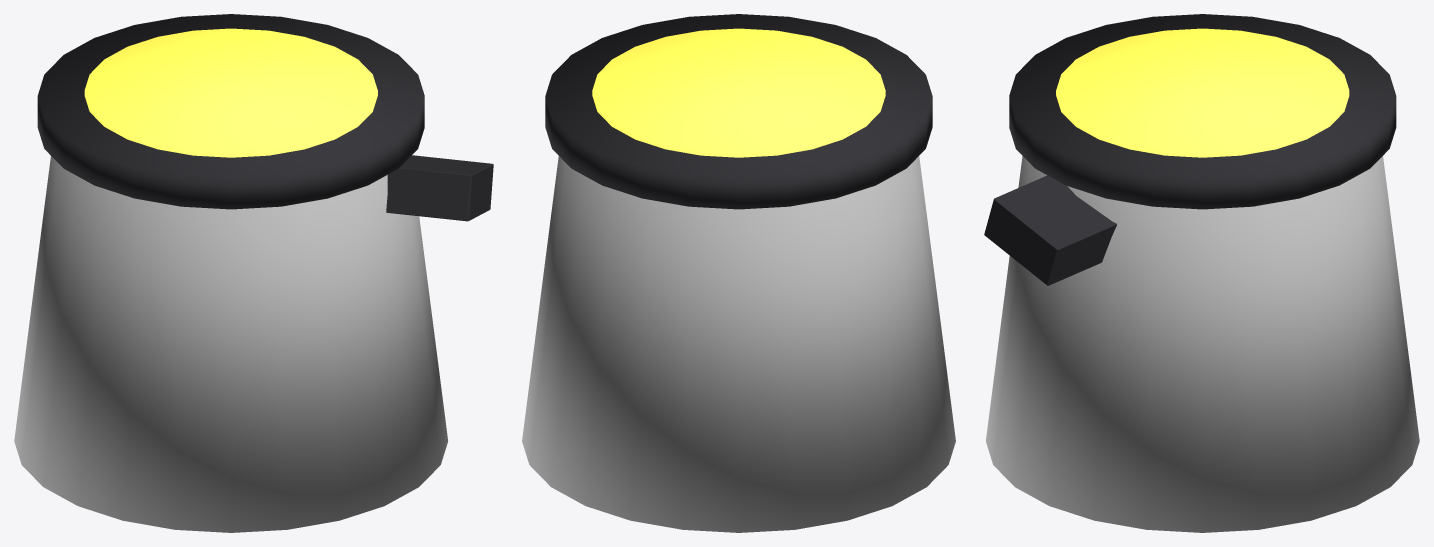
The model's file is smelter.glb.
The picture shows the model from 3 angles, left to right: view 1: azimuth 30°, elevation 25°; view 2: azimuth 150°, elevation 25°; view 3: azimuth 270°, elevation 25°; orthographic projection.
Visible parts, largest first — view 1: machines/smelter; view 2: machines/smelter; view 3: machines/smelter.
Boxes of the visible parts, <box> form: machines/smelter: <box>14,14,493,532</box>; machines/smelter: <box>522,14,955,532</box>; machines/smelter: <box>984,14,1419,532</box>.
Bounding box in the file's own units: 0.7435 × 0.66 × 0.7427.
